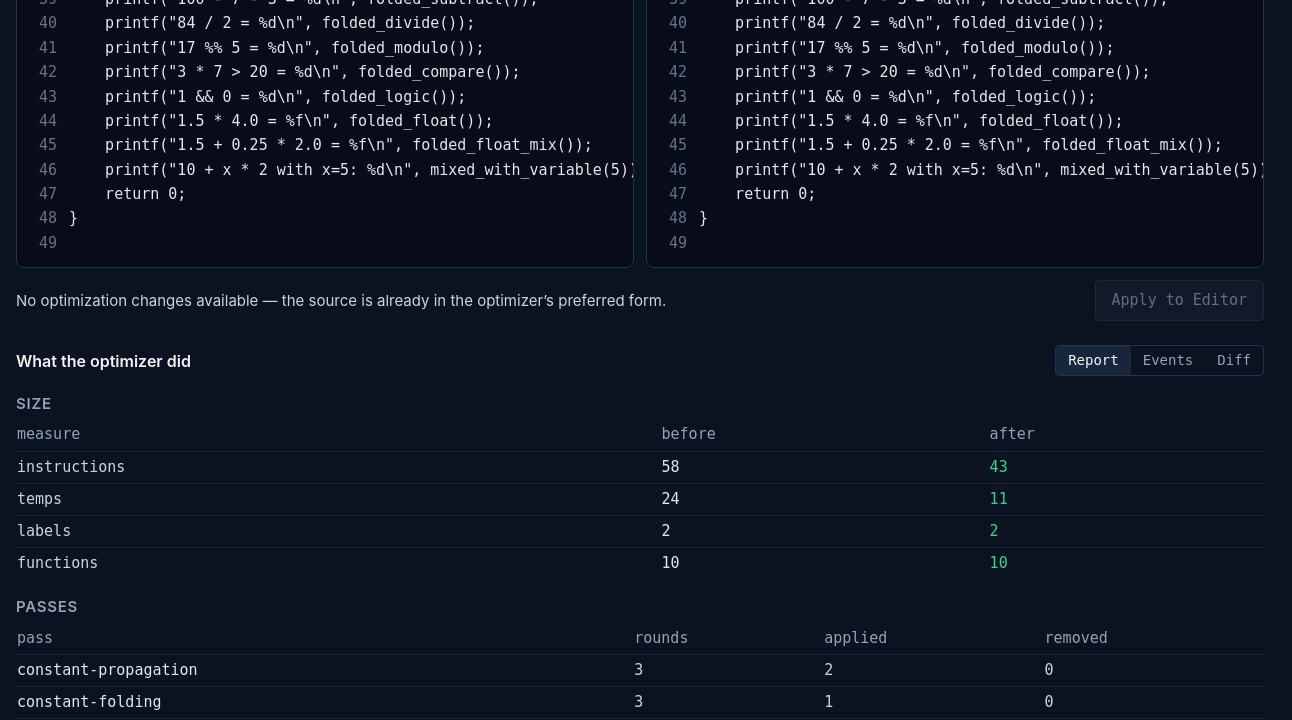
Test case: optimizer view › reports the source as fully optimized once codegen has nothing left to change
(page scrolled)
Click the button "diff" at (1234, 361), box [1205,346,1263,375]
(page scrolled)
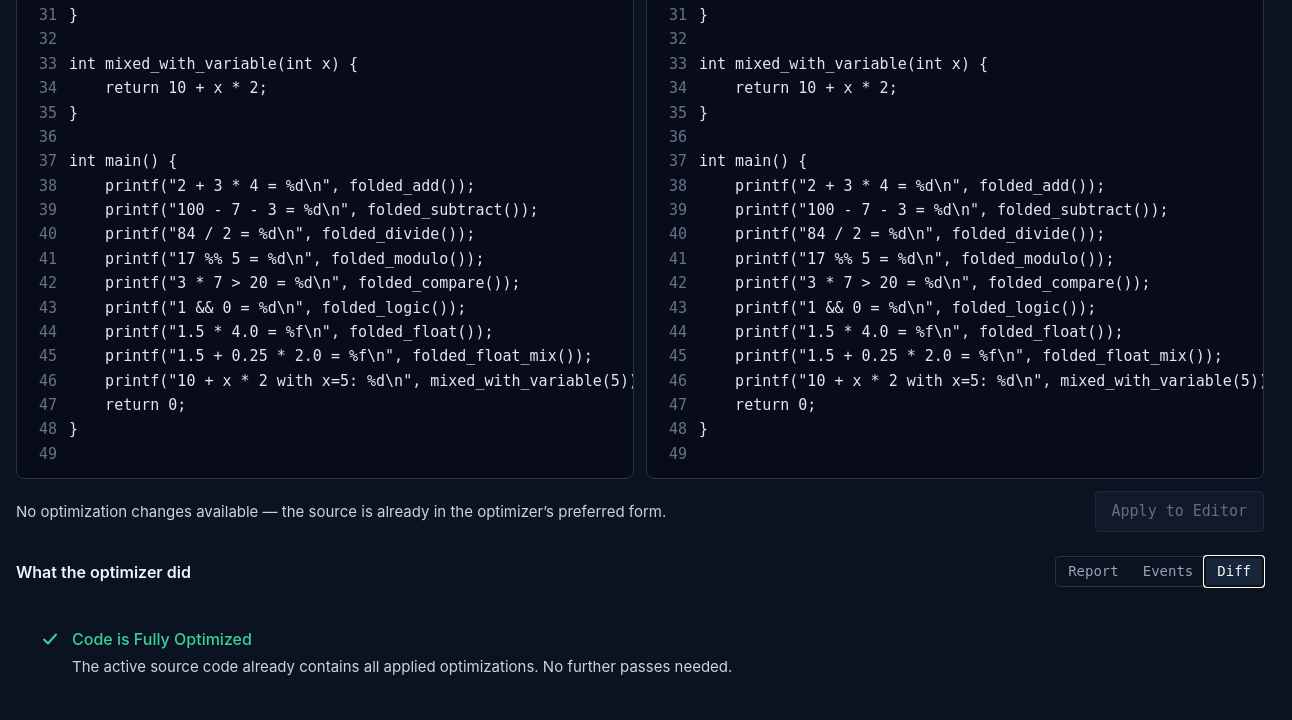
Expected: the text "No optimization changes available" is shown, [16,502,666,521]
Now the heading "Code is Fully Optimized" is shown, box [72,629,252,649]
Now the text "The active source code already contains all applied optimizations. No further passes needed." is shown, box [72,657,732,676]
